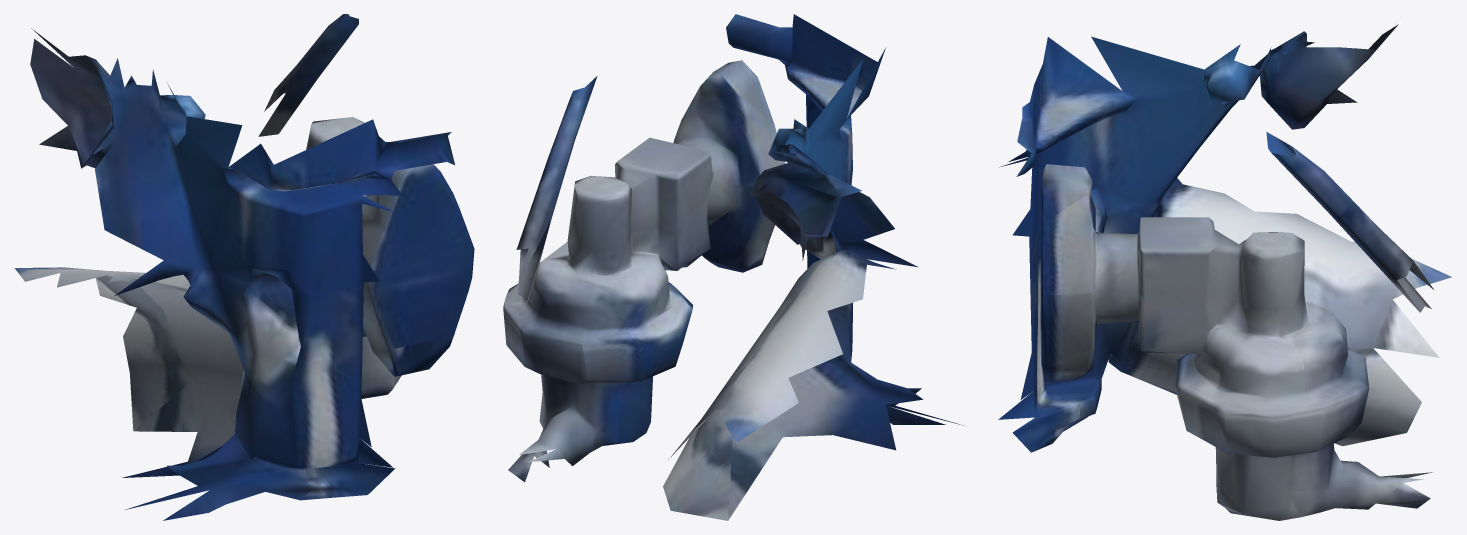
Rendered from alternator_351.glb.
3 renders of one model, left to right at view 1: azimuth 30°, elevation 25°; view 2: azimuth 150°, elevation 25°; view 3: azimuth 270°, elevation 25°, orthographic. The views are drawn at different scales.
Visible parts, largest first — view 1: alternator_351; view 2: alternator_351; view 3: alternator_351.
Part boxes in pixels (left/top/right/bottom): alternator_351: left=14, top=14, right=474, bottom=520; alternator_351: left=503, top=14, right=964, bottom=520; alternator_351: left=998, top=24, right=1451, bottom=520.
Size of the model in its own units: 0.2042 by 0.1978 by 0.2023.
Materials: 1 (1 with a texture image).
